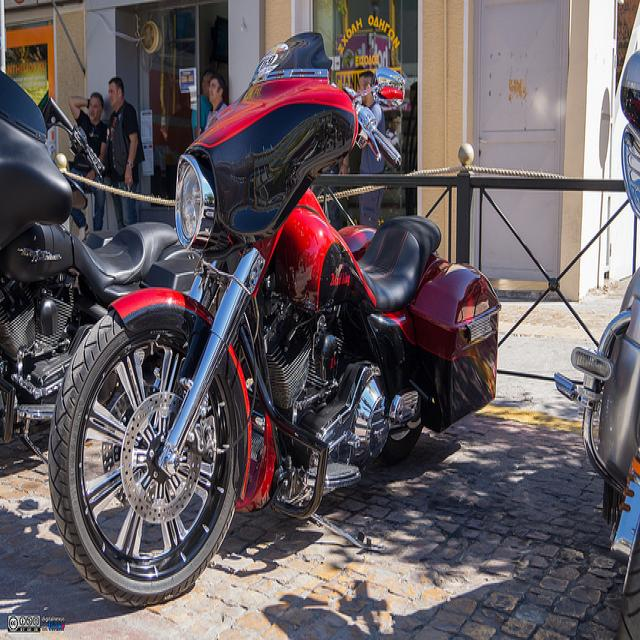motor: (51, 39, 503, 604), (1, 66, 197, 441), (554, 52, 639, 575)
